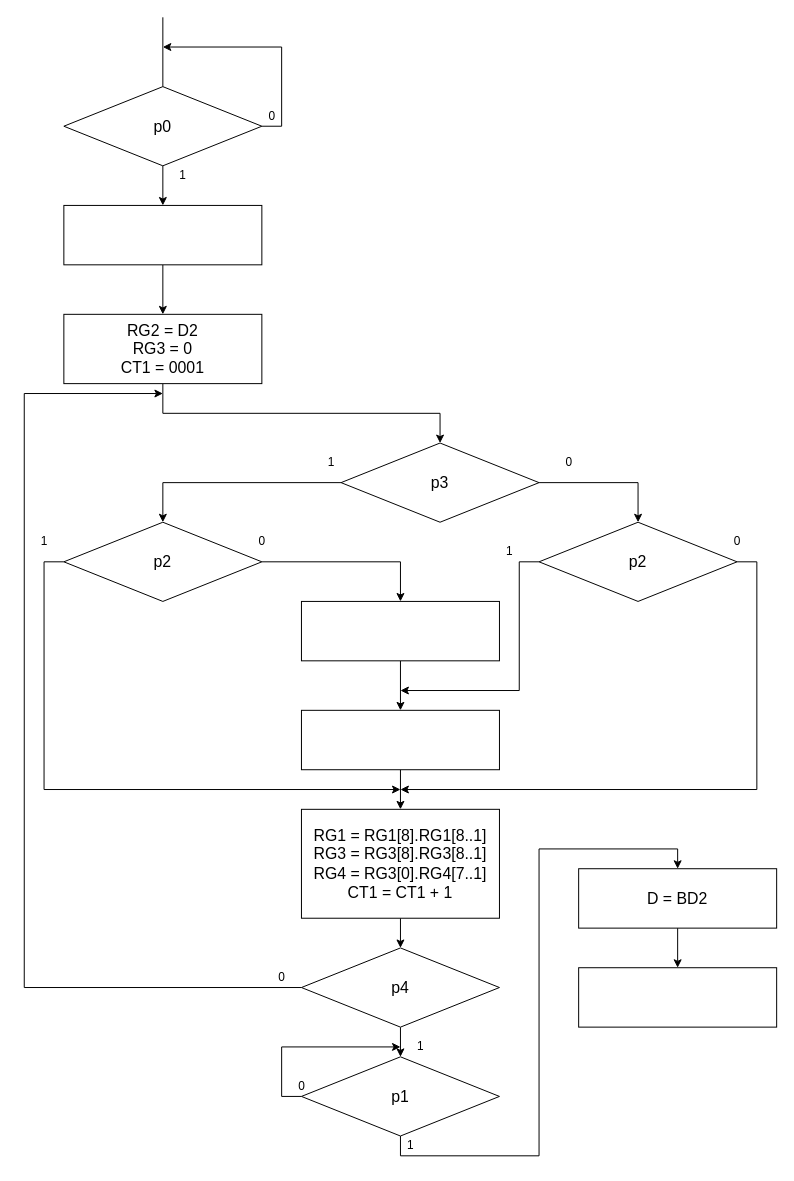
Image size: 794x1181. Some labels were removed from this diagram. Each missing label, with the centre of its shape:
D = BD1: the point at 677,997
RG1 = D1: the point at 162,234
RG2 = -RG2: the point at 399,630
RG3 = RG3 + RG2: the point at 399,739
